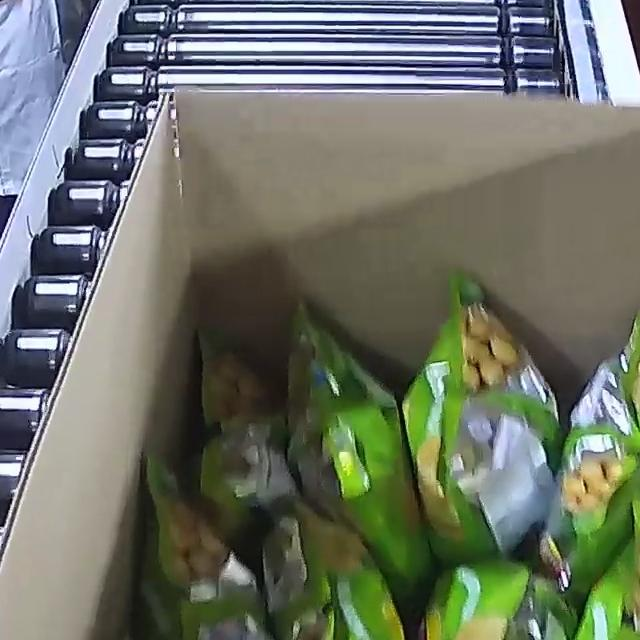yogurt: (113, 275, 640, 640)
